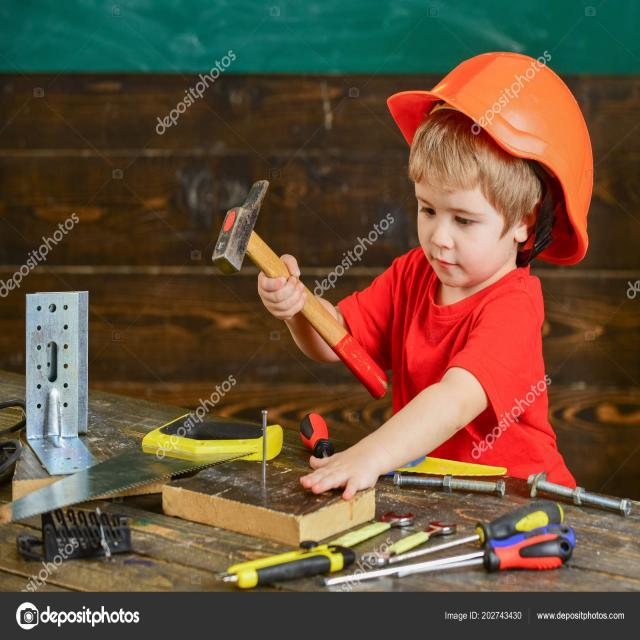hammer: (200, 169, 397, 407)
screwdriver: (320, 523, 580, 592), (370, 496, 568, 566), (390, 530, 596, 584)
